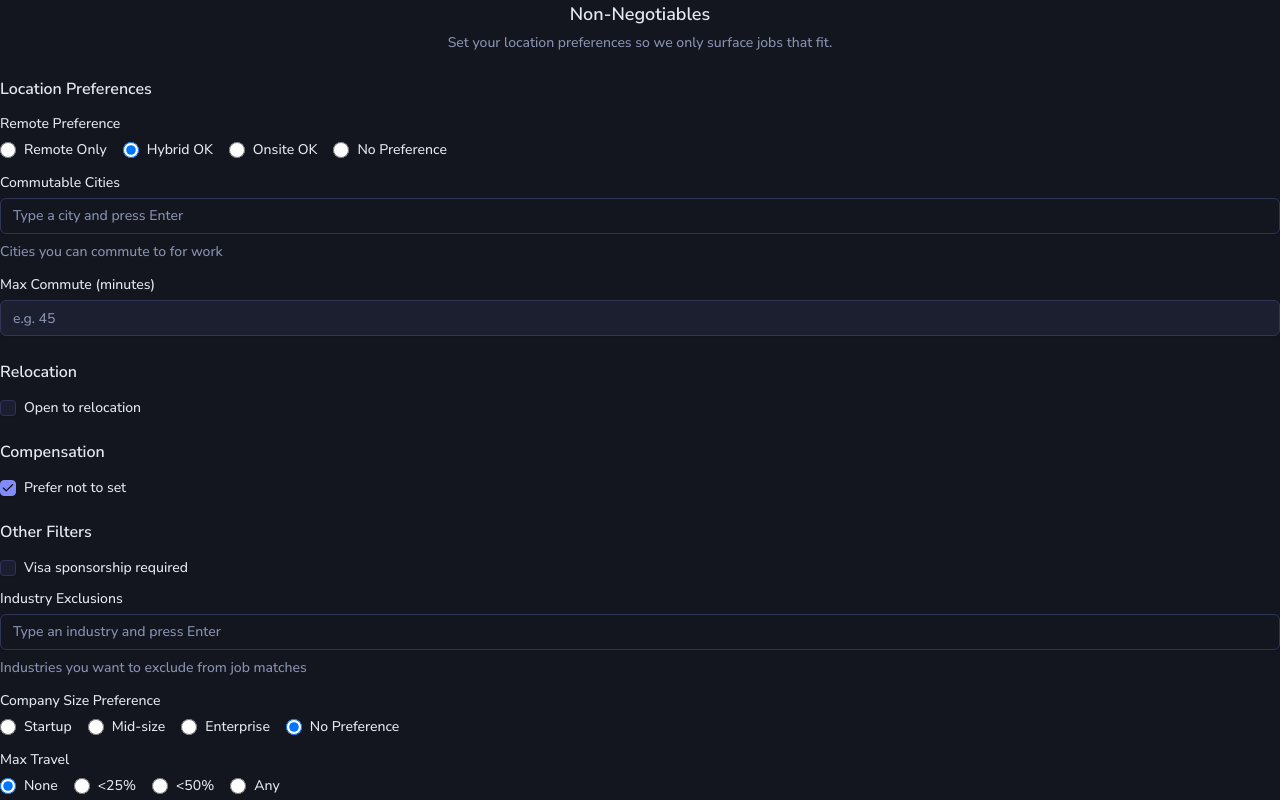
Test: NonNegotiablesStep › validation › rejects max commute exceeding 480 minutes on submit
Type "500" into the number field labelled "Max Commute (minutes)" at (640, 318), box [0,300,1279,336]
(page scrolled)
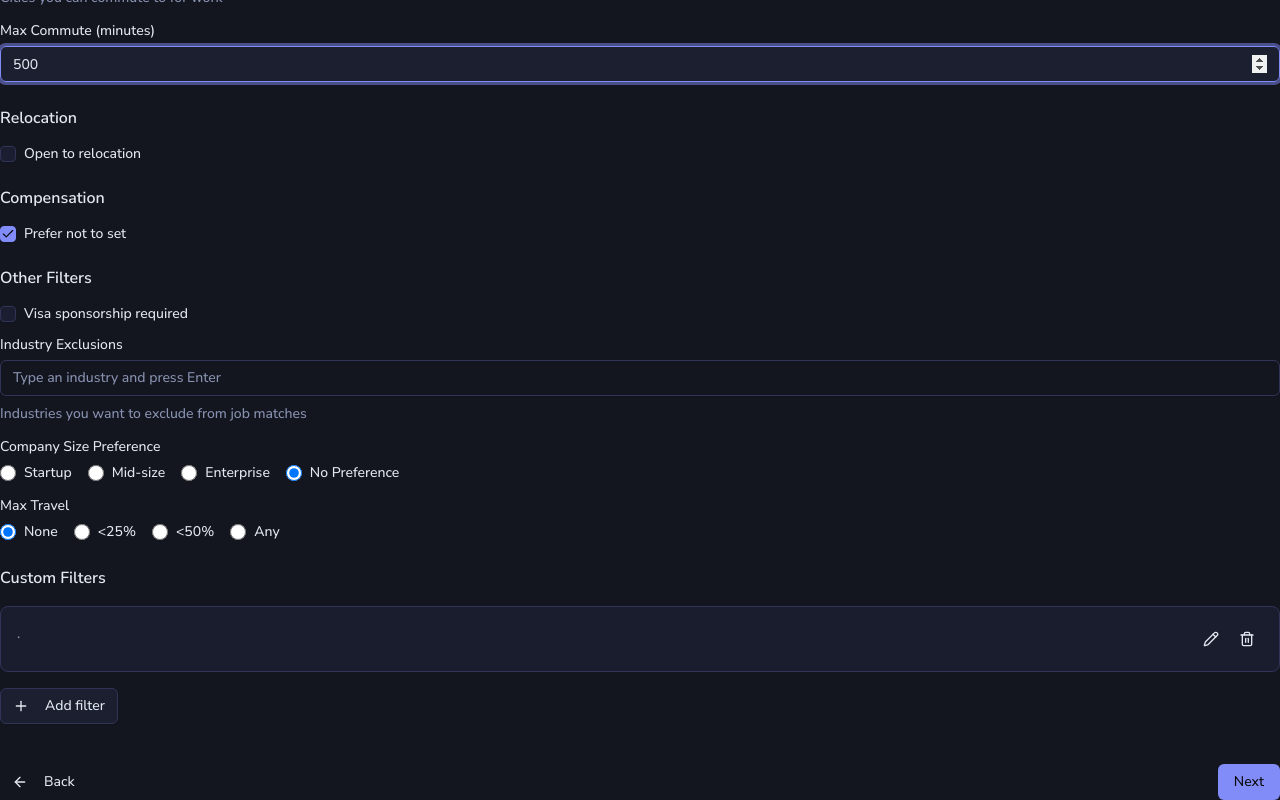
Click the button with test id "submit-button" at (1249, 782), box [1218,764,1279,799]
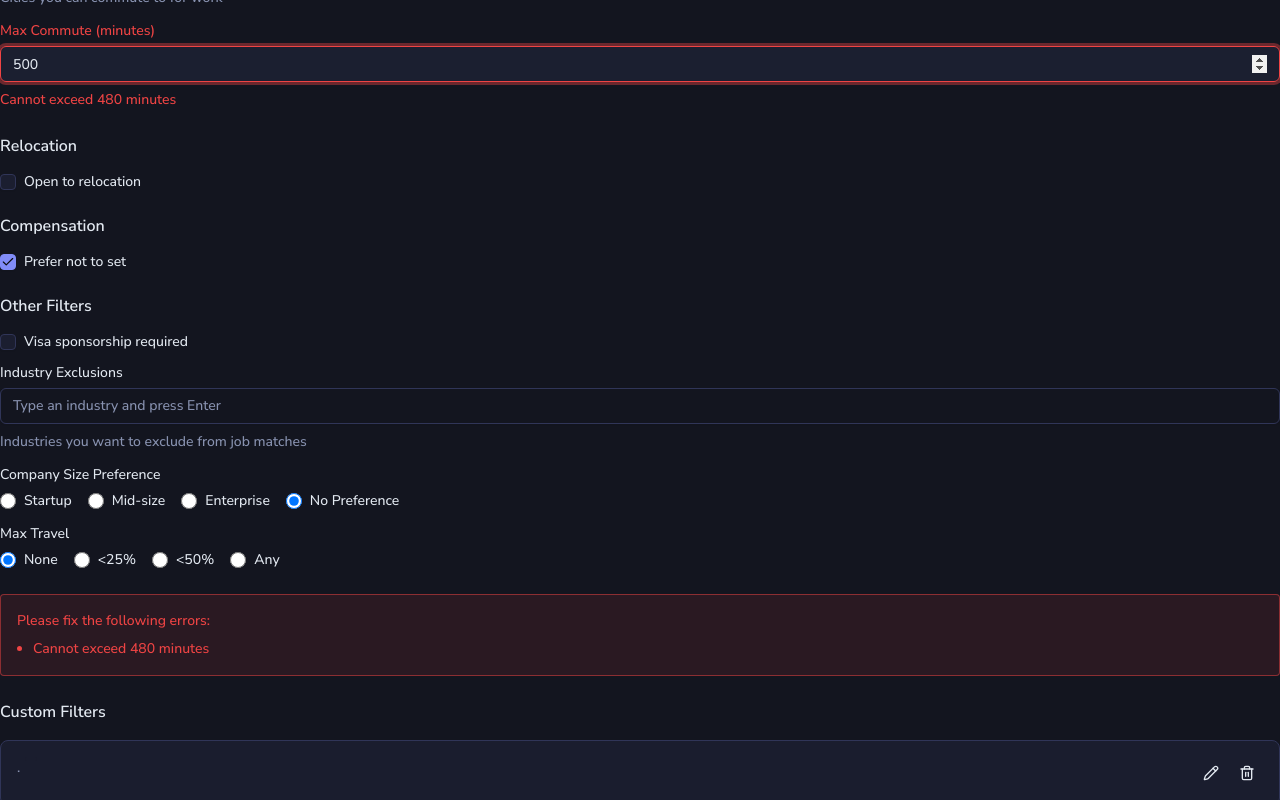
Expected: the text "Cannot exceed 480 minutes" is shown, [0,90,176,109]
